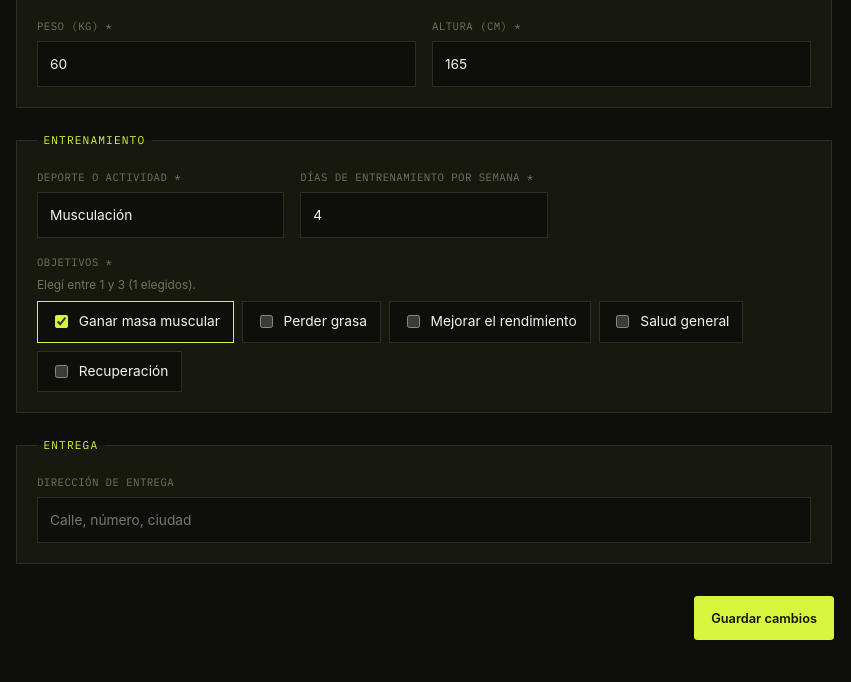
Test case: ClientProfile › shows the backend error under the matching field when saving fails
The image size is (851, 682).
(page scrolled)
What coordinates should you click on to do the following:
click the button "Guardar cambios"
I would click on:
 (764, 618)
Its box is [694,596,834,640].
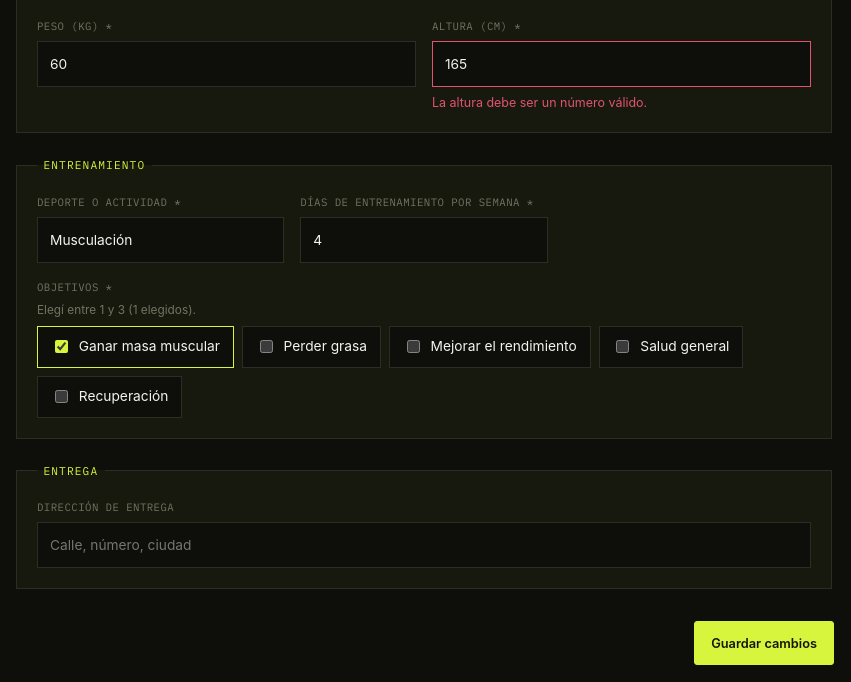
Now the text "La altura debe ser un número válido." is shown, box [432,95,647,110]
